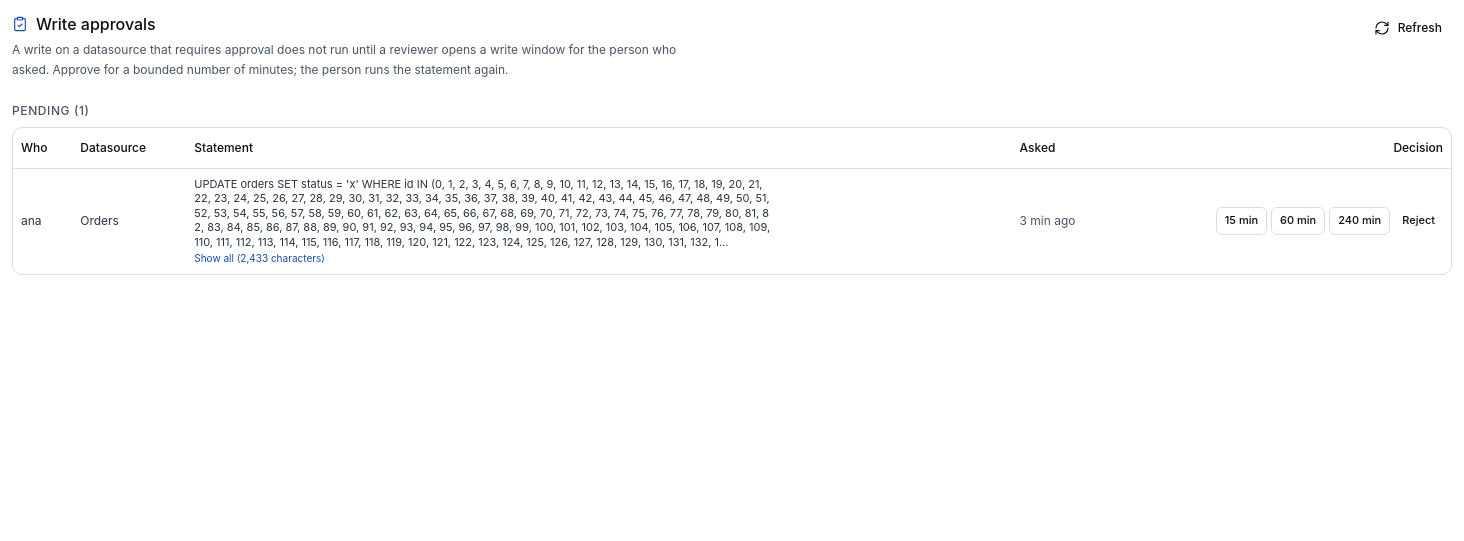
Test: ApprovalsTab › a long statement is folded with a toggle that shows all of it
Click the button with test id "statement-toggle-req-1" at [260, 258], box left=194, top=252, right=325, bottom=265
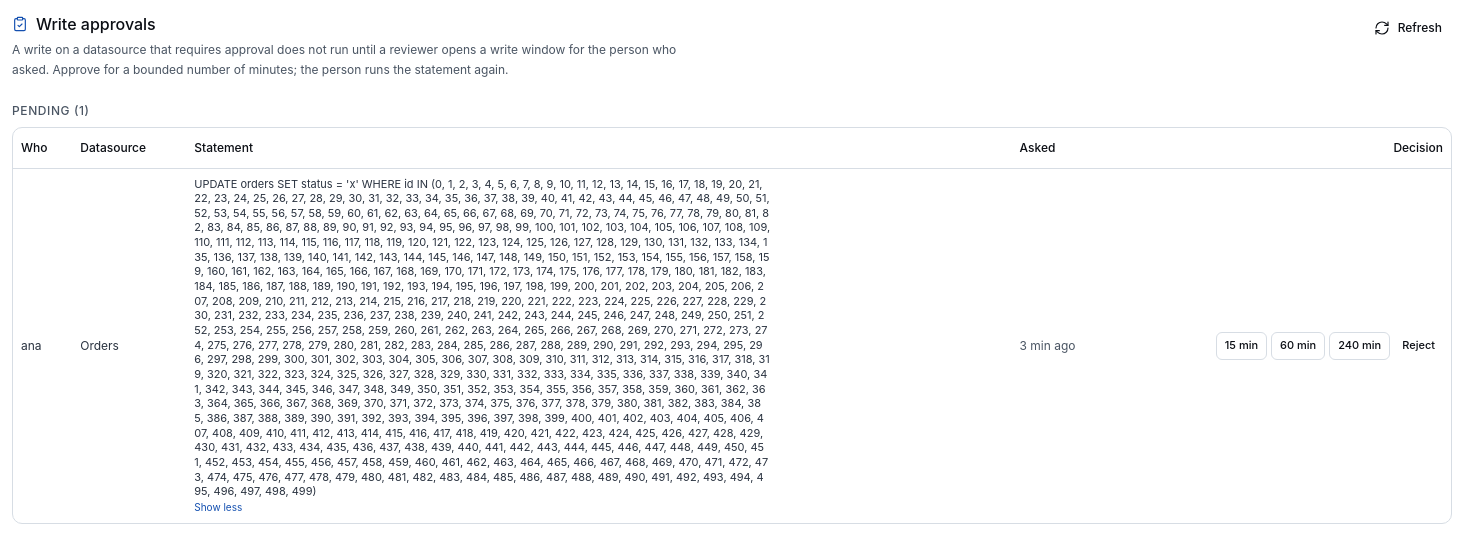
Now the button with test id "statement-toggle-req-1" reads "Show less", box left=194, top=501, right=242, bottom=514
